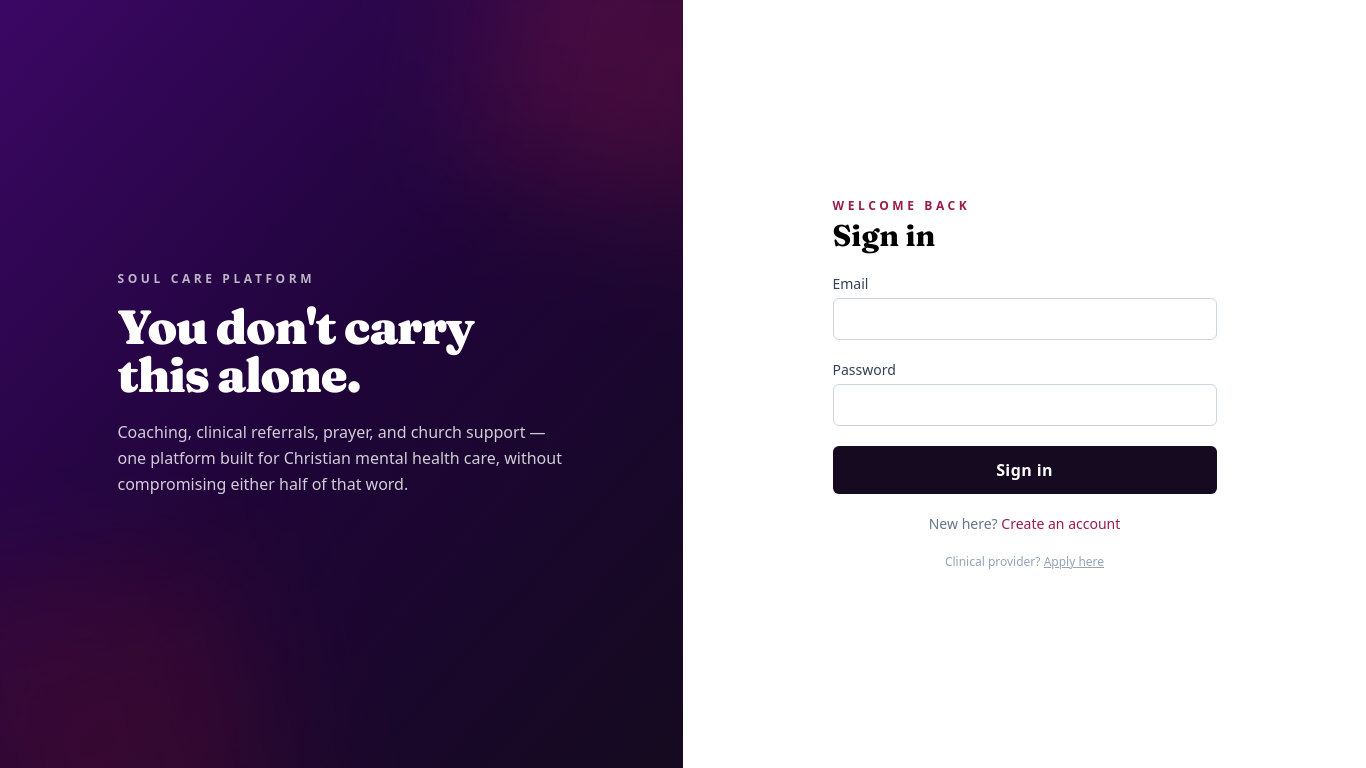
Test: App — login flow › logs in as a provider and reaches the provider dashboard
Type "provider@example.com" into the field labelled "Email".
click(1024, 319); type("provider@example.com")  # box top-left (832, 298), bottom-right (1216, 340)
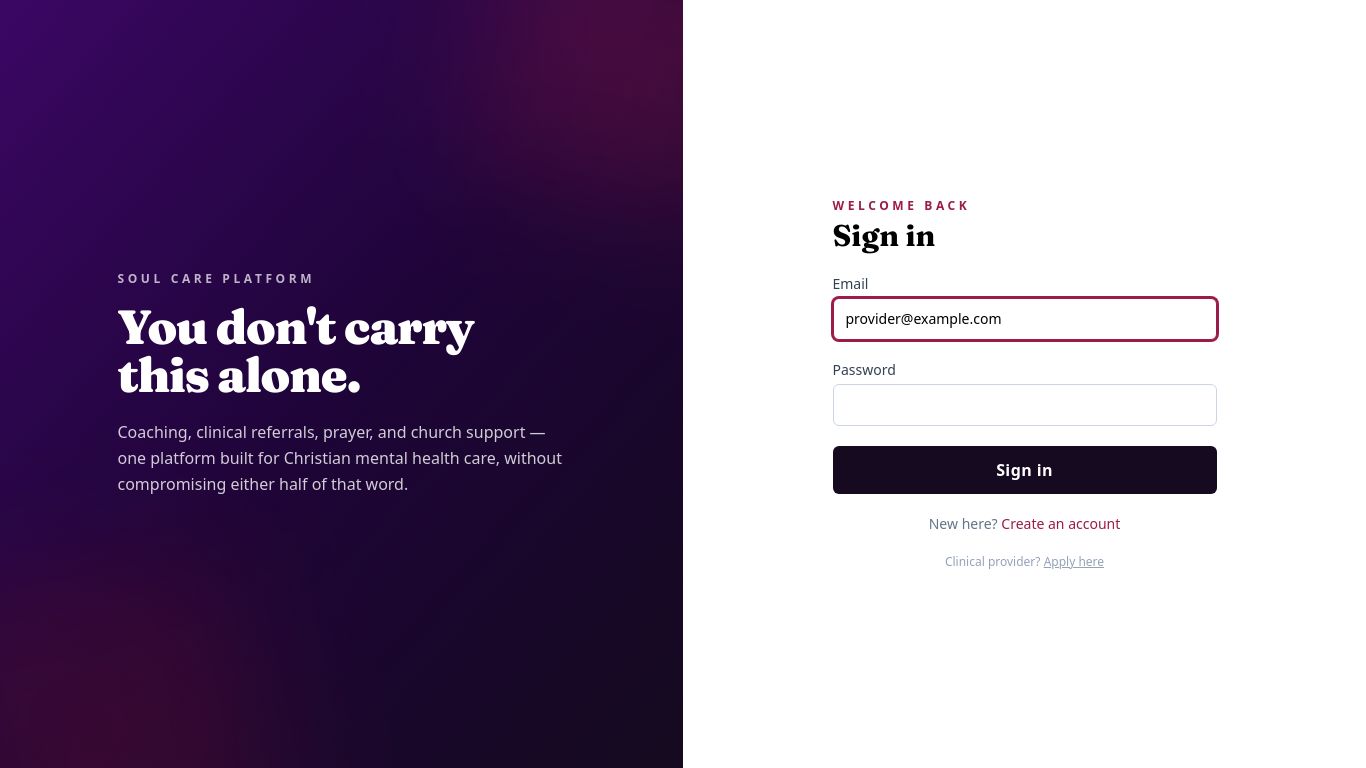
Type "correcthorsebattery" into the password field labelled "Password".
click(1024, 405); type("correcthorsebattery")  # box top-left (832, 384), bottom-right (1216, 426)
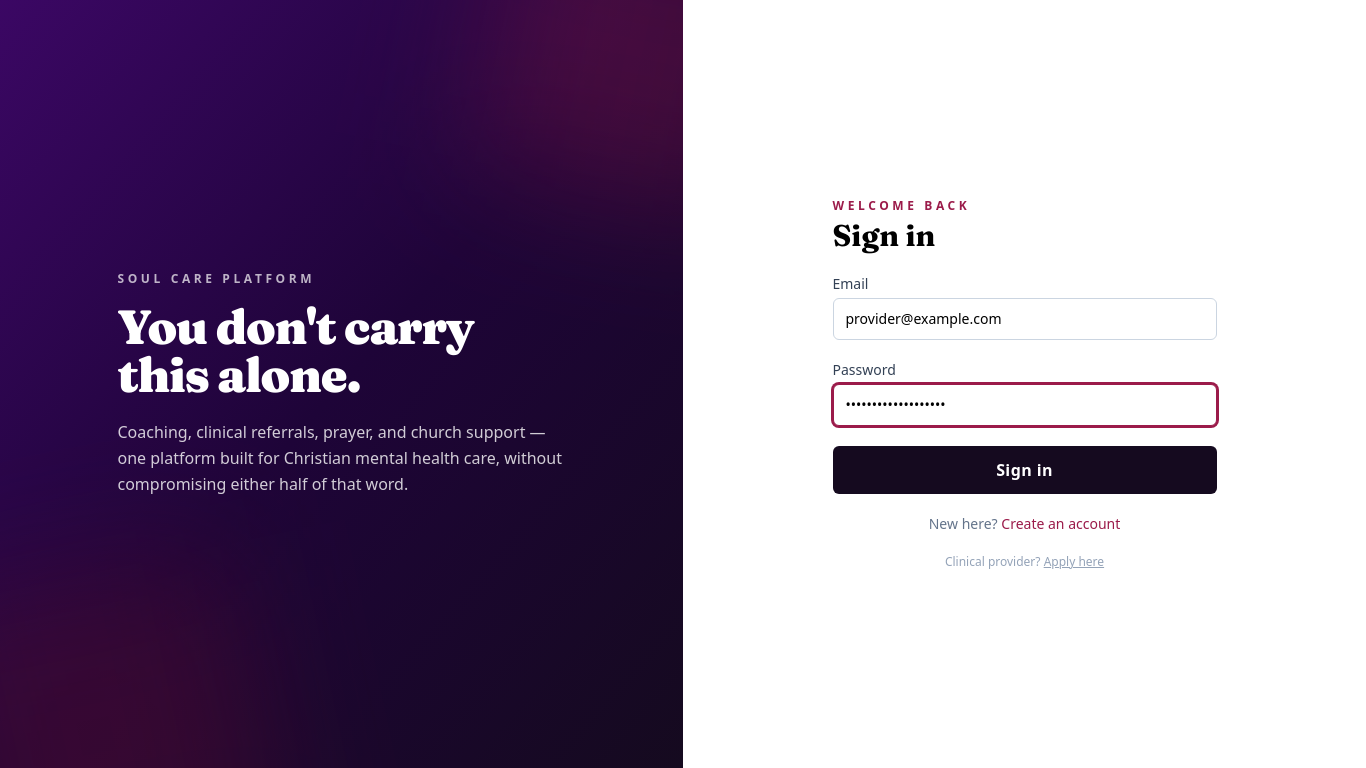
Click the button "Sign in".
click(1024, 470)  # box top-left (832, 446), bottom-right (1216, 494)
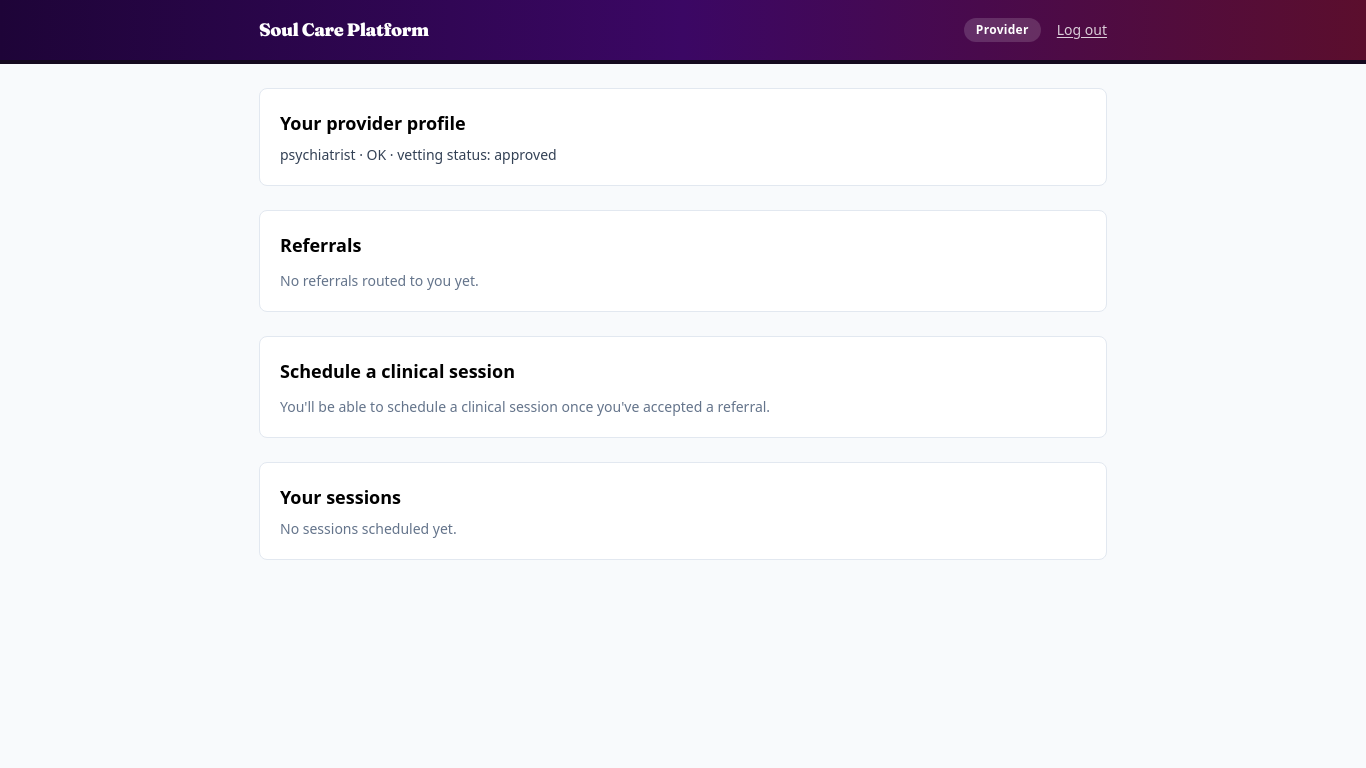
Result: the heading "Your provider profile" is shown at top-left (280, 111), bottom-right (466, 135)
Result: the text "psychiatrist · OK · vetting status: approved" is shown at top-left (280, 145), bottom-right (557, 164)
